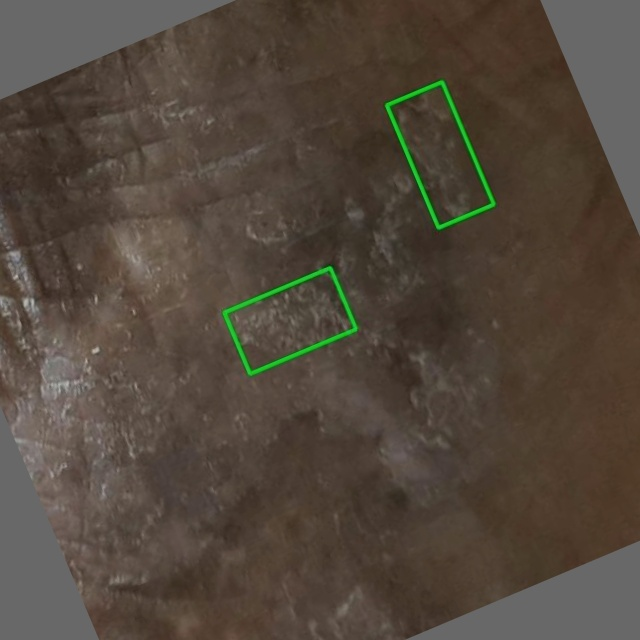Eczema: (386, 81, 493, 227), (224, 267, 356, 373)
